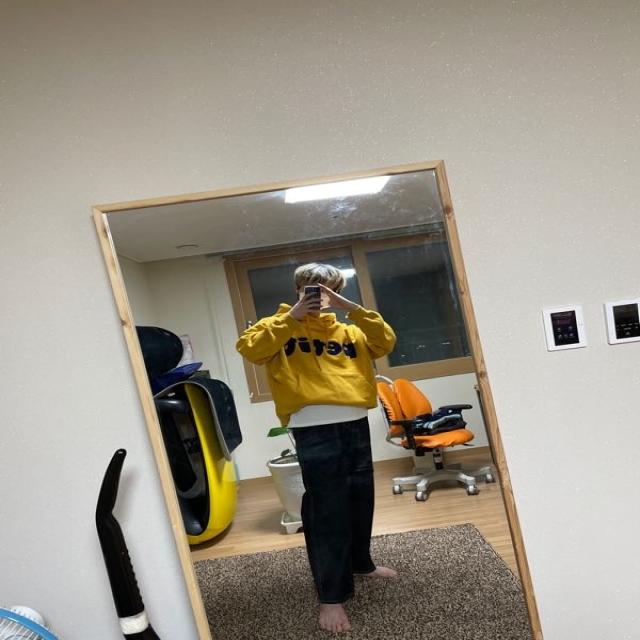denimpants: (294, 419, 376, 606)
hoodies: (234, 307, 398, 428)
